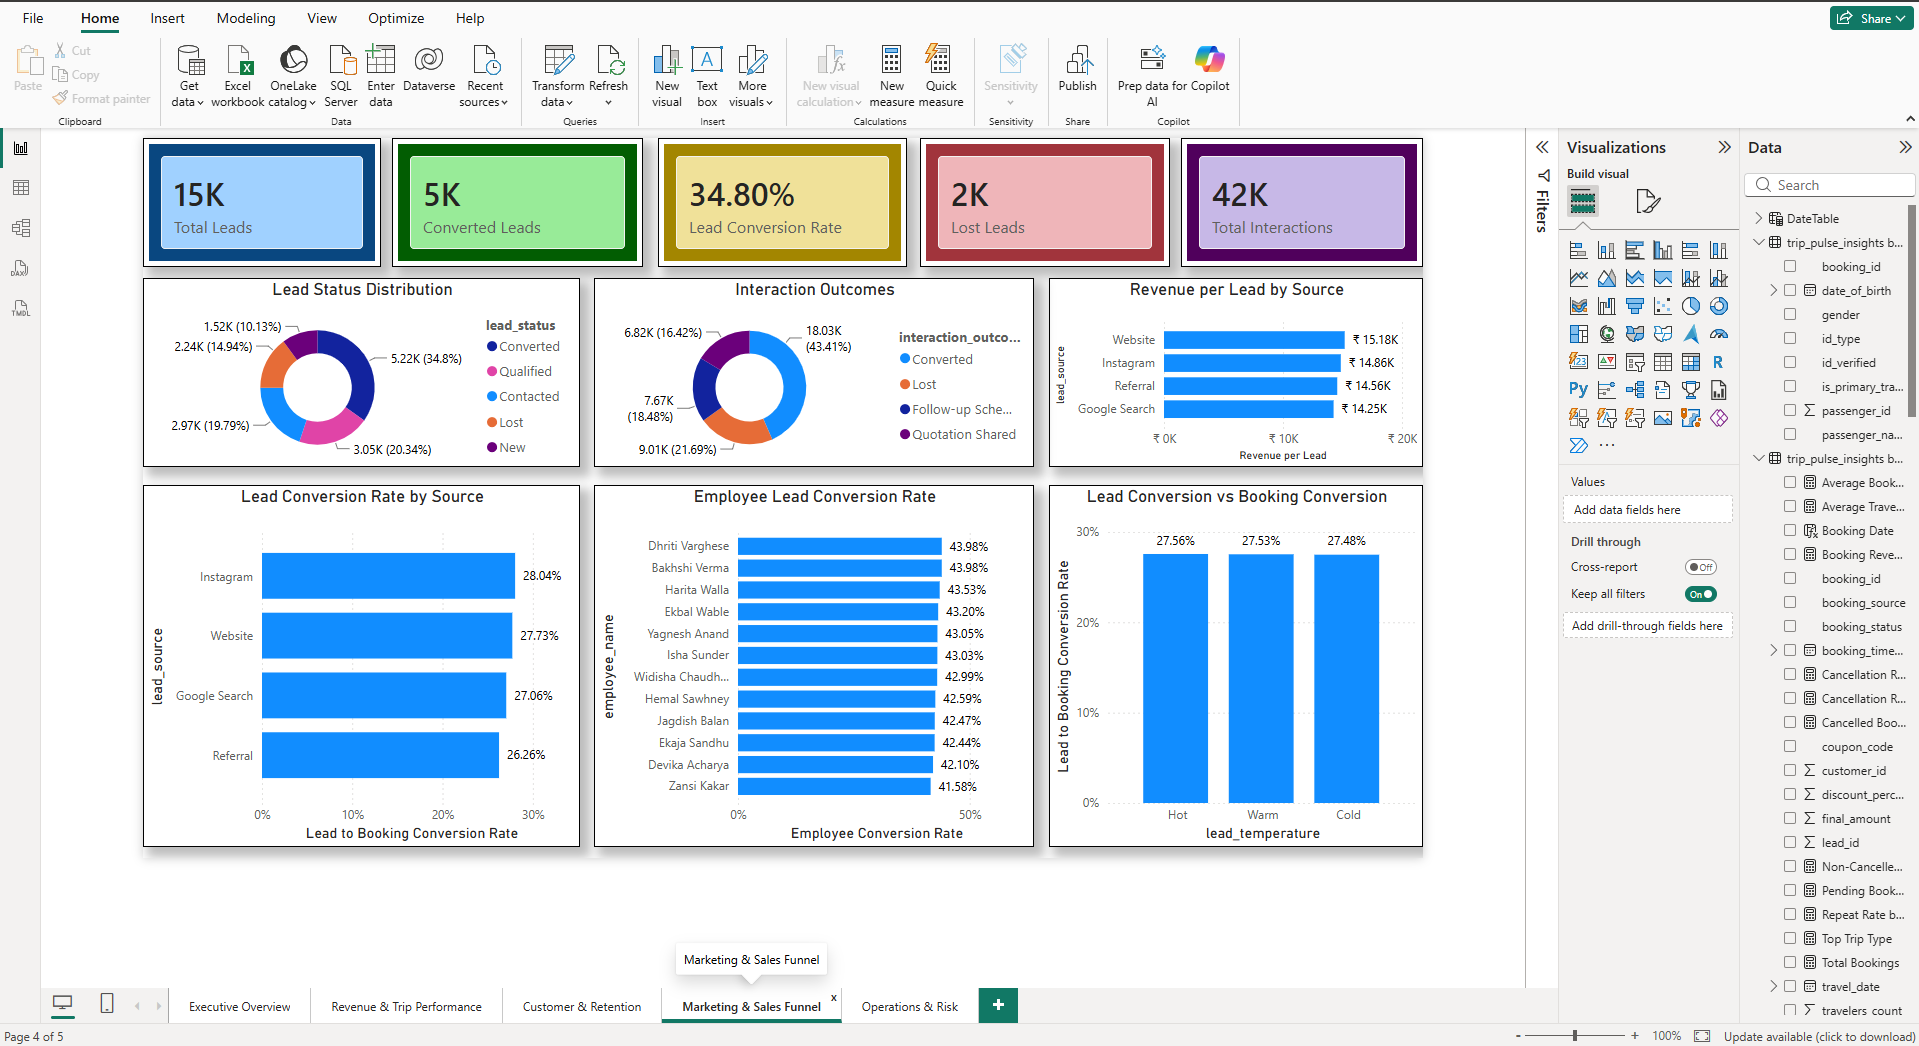

Layout of this report page (visuals, bound fields, positions):
{"tool":"powerbi","page":{"name":"Marketing & Sales Funnel","canvas":[1280,720],"ordinal":3},"visuals":[{"type":"cardVisual","fields":{"Data":["trip_pulse_insights leads.Total Leads"]},"box":[0,0,238,129],"z":0},{"type":"cardVisual","fields":{"Data":["trip_pulse_insights leads.Converted Leads"]},"box":[249,0,251,129],"z":1000},{"type":"cardVisual","fields":{"Data":["trip_pulse_insights leads.Lead Conversion Rate"]},"box":[515,0,249,129],"z":2000},{"type":"cardVisual","fields":{"Data":["trip_pulse_insights leads.Lost Leads"]},"box":[777,0,250,129],"z":3000},{"type":"cardVisual","fields":{"Data":["trip_pulse_insights lead_interactions.Total Interactions"]},"box":[1038,0,242,129],"z":4000},{"type":"donutChart","title":"Lead Status Distribution","fields":{"Category":["trip_pulse_insights leads.lead_status"],"Y":["trip_pulse_insights leads.Lead Count"]},"box":[0,140,437.1,188.6],"z":5000},{"type":"clusteredBarChart","title":"Lead Conversion Rate by Source","fields":{"Category":["trip_pulse_insights leads.lead_source"],"Y":["trip_pulse_insights leads.Lead to Booking Conversion Rate"]},"box":[0,347.1,437.1,361.4],"z":6000},{"type":"clusteredBarChart","title":"Revenue per Lead by Source","fields":{"Category":["trip_pulse_insights leads.lead_source"],"Y":["trip_pulse_insights leads.Revenue per Lead"]},"box":[905.7,140,374.3,188.6],"z":7000},{"type":"donutChart","title":"Interaction Outcomes","fields":{"Category":["trip_pulse_insights lead_interactions.interaction_outcome"],"Y":["Count(trip_pulse_insights lead_interactions.interaction_id)"]},"box":[451,140,440,189],"z":8000},{"type":"clusteredBarChart","title":"Employee Lead Conversion Rate","fields":{"Category":["trip_pulse_insights employees.employee_name"],"Y":["trip_pulse_insights employees.Employee Conversion Rate"]},"box":[451.4,347.1,440,361.4],"z":9000},{"type":"clusteredColumnChart","title":"Lead Conversion vs Booking Conversion","fields":{"Category":["trip_pulse_insights leads.lead_temperature"],"Y":["trip_pulse_insights leads.Lead to Booking Conversion Rate"]},"box":[905.7,347.1,374.3,361.4],"z":10000}]}

Visuals, with their boxes on the page's 1280x720 design canvas (x1, y1, x2, y2). These are canvas units, not pixel positions in the 1919x1046 screenshot, which may show the page scaled, cropped or inside an application window:
cardVisual - trip_pulse_insights leads.Total Leads: {"left": 0, "top": 0, "right": 238, "bottom": 129}
cardVisual - trip_pulse_insights leads.Converted Leads: {"left": 249, "top": 0, "right": 500, "bottom": 129}
cardVisual - trip_pulse_insights leads.Lead Conversion Rate: {"left": 515, "top": 0, "right": 764, "bottom": 129}
cardVisual - trip_pulse_insights leads.Lost Leads: {"left": 777, "top": 0, "right": 1027, "bottom": 129}
cardVisual - trip_pulse_insights lead_interactions.Total Interactions: {"left": 1038, "top": 0, "right": 1280, "bottom": 129}
"Lead Status Distribution" donutChart: {"left": 0, "top": 140, "right": 437, "bottom": 329}
"Lead Conversion Rate by Source" clusteredBarChart: {"left": 0, "top": 347, "right": 437, "bottom": 708}
"Revenue per Lead by Source" clusteredBarChart: {"left": 906, "top": 140, "right": 1280, "bottom": 329}
"Interaction Outcomes" donutChart: {"left": 451, "top": 140, "right": 891, "bottom": 329}
"Employee Lead Conversion Rate" clusteredBarChart: {"left": 451, "top": 347, "right": 891, "bottom": 708}
"Lead Conversion vs Booking Conversion" clusteredColumnChart: {"left": 906, "top": 347, "right": 1280, "bottom": 708}
